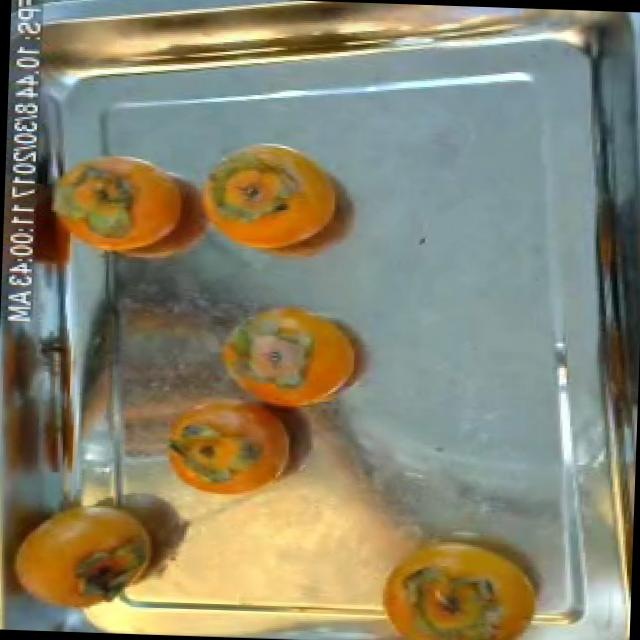Fruit: (186, 128, 372, 268), (205, 290, 383, 416)
